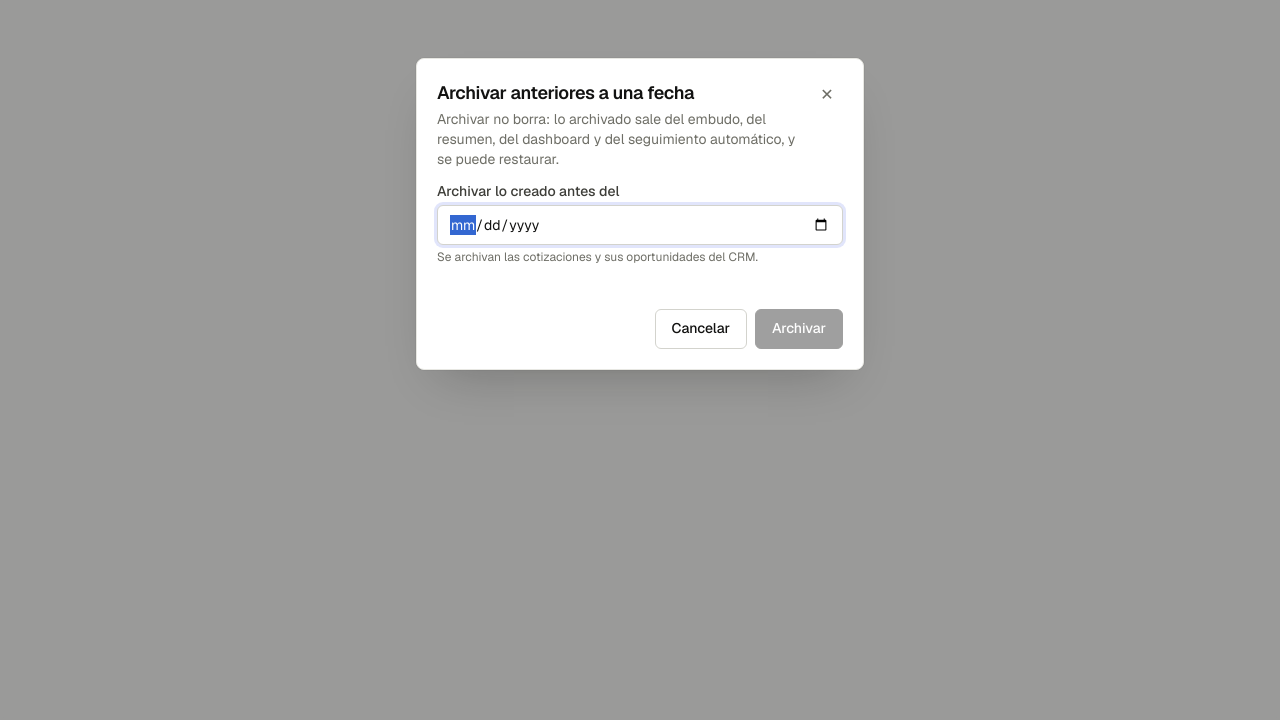
Test: ArchivarAnterioresDialogo › si no hay nada que archivar no deja confirmar
In the date field labelled "Archivar lo creado antes del": (640, 225) [437,205,843,245], type "2020-01-01"
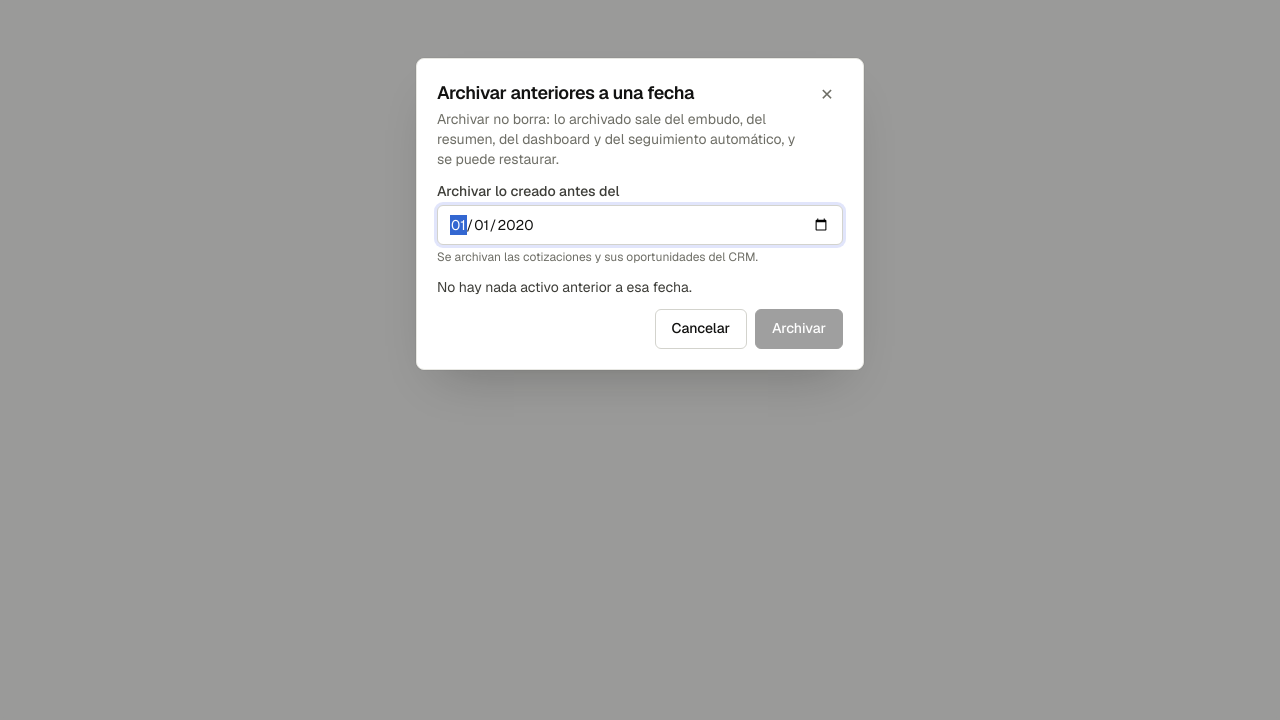
Expected: the button "Archivar" is disabled, [755,309,843,349]
Expected: the text "No hay nada activo anterior a esa fecha." is shown, [437,278,692,296]
